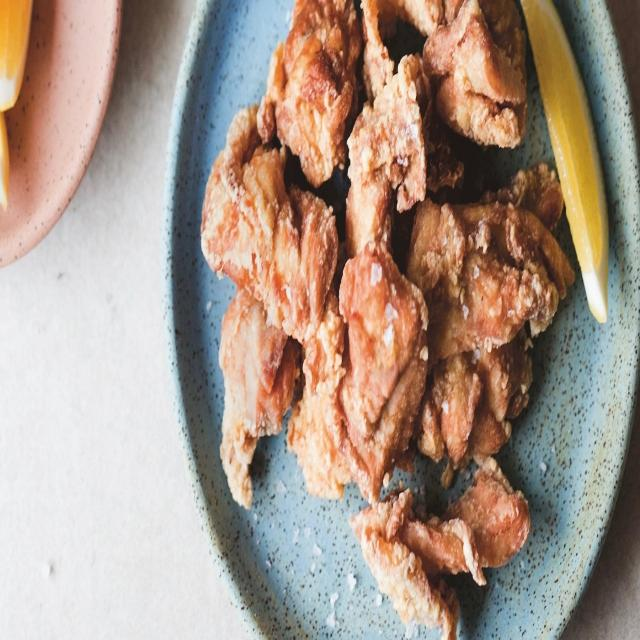Frango: (199, 0, 577, 640)
